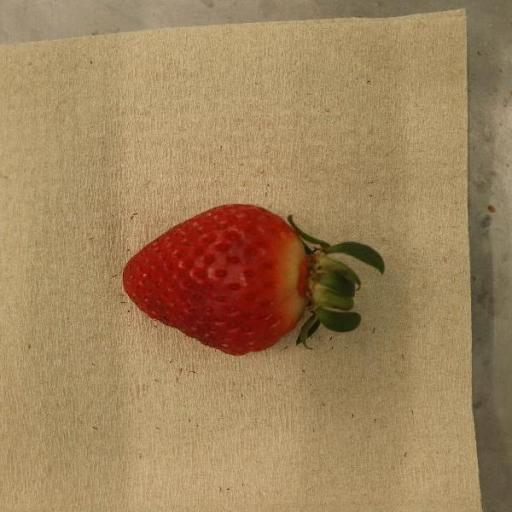Strawberry: (122, 204, 385, 356)
